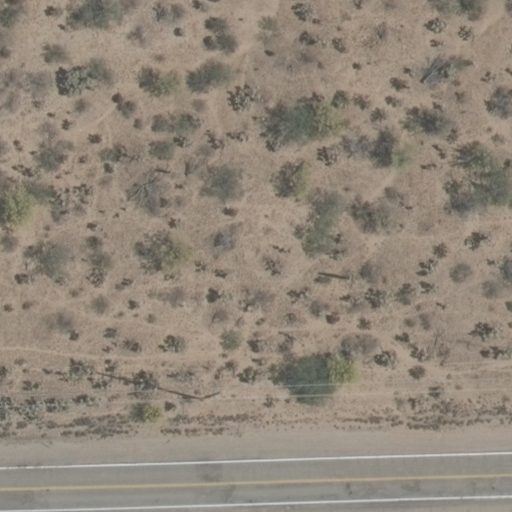DT: (197, 386, 230, 405)
